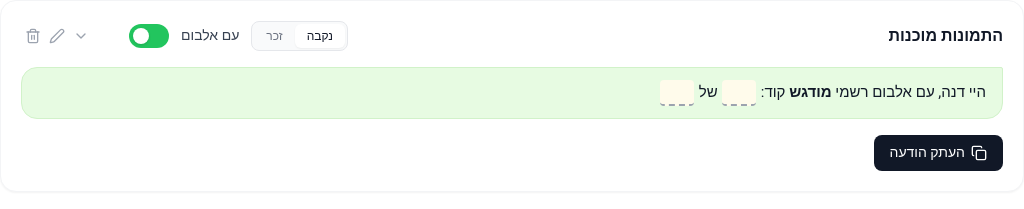
MessageCard › copies filled text without the title; warns and keeps ___ for unfilled blanks
The image size is (1024, 209).
Type "1234" into the field named "שדה למילוי 1". click: (739, 93)
box: [722, 80, 756, 106]
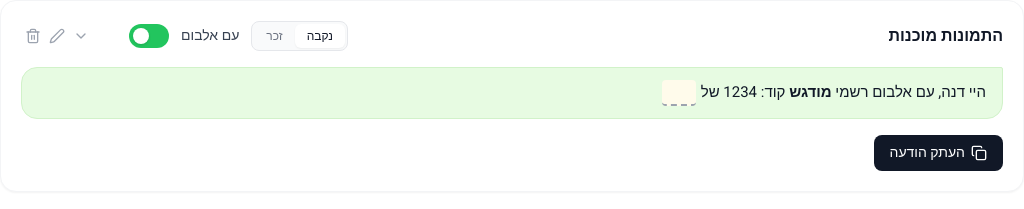
Click the button "העתק הודעה". click: (938, 153)
box: [874, 135, 1003, 171]
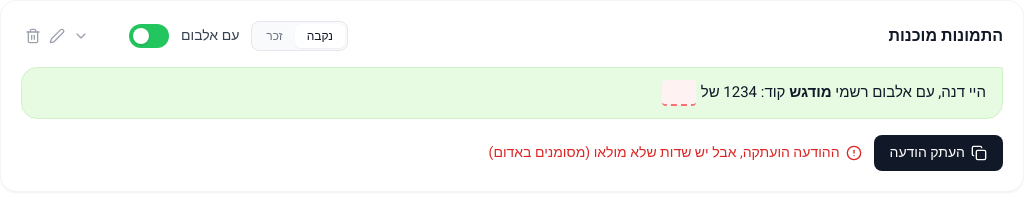
Result: the text "ההודעה הועתקה, אבל יש שדות שלא מולאו (מסומנים באדום)" is shown at [489, 143, 862, 163]
